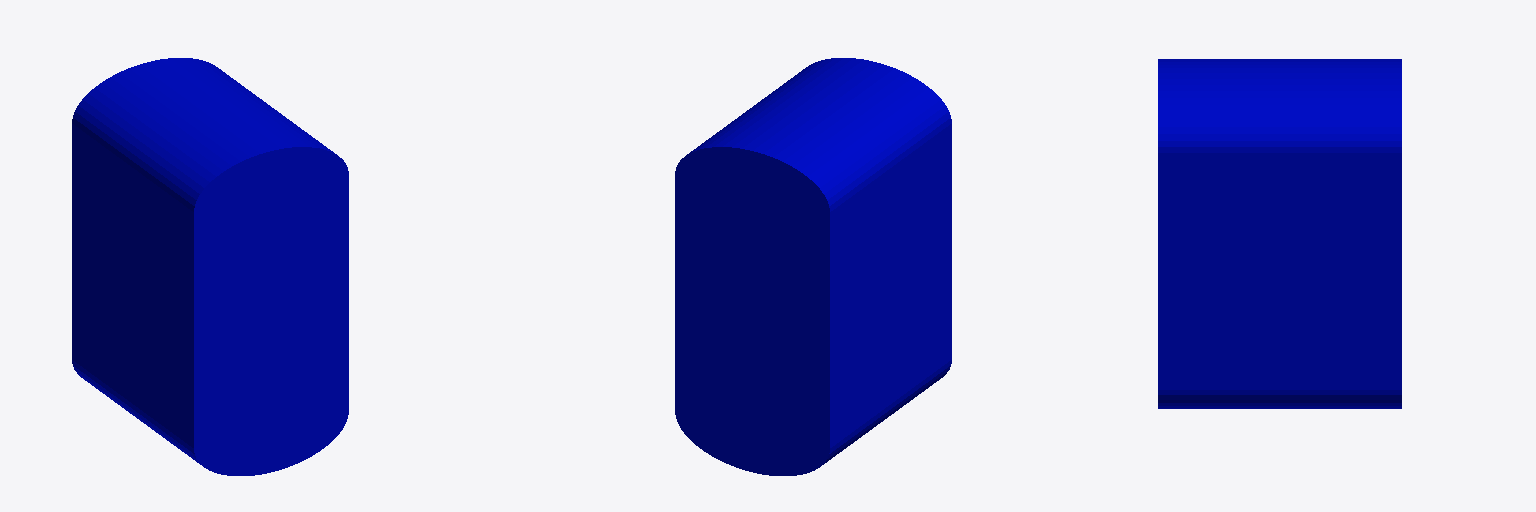
File: pared1.obj
The picture shows the model from 3 angles: view 1: azimuth 30°, elevation 25°; view 2: azimuth 150°, elevation 25°; view 3: azimuth 270°, elevation 25°; orthographic projection.
Parts seen in each view (by area): view 1: path3840; view 2: path3840; view 3: path3840.
Boxes of the visible parts, x1=… form: path3840: x1=72, y1=58, x2=348, y2=475; path3840: x1=675, y1=58, x2=951, y2=475; path3840: x1=1158, y1=59, x2=1401, y2=408.
Size of the model in its own units: 2.33 by 2.91 by 2.